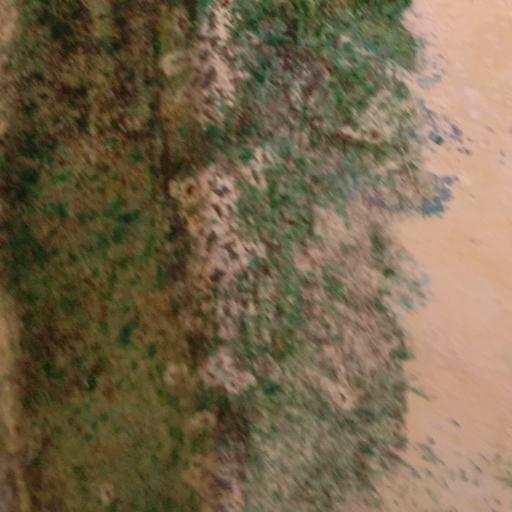algae: (0, 0, 443, 511)
